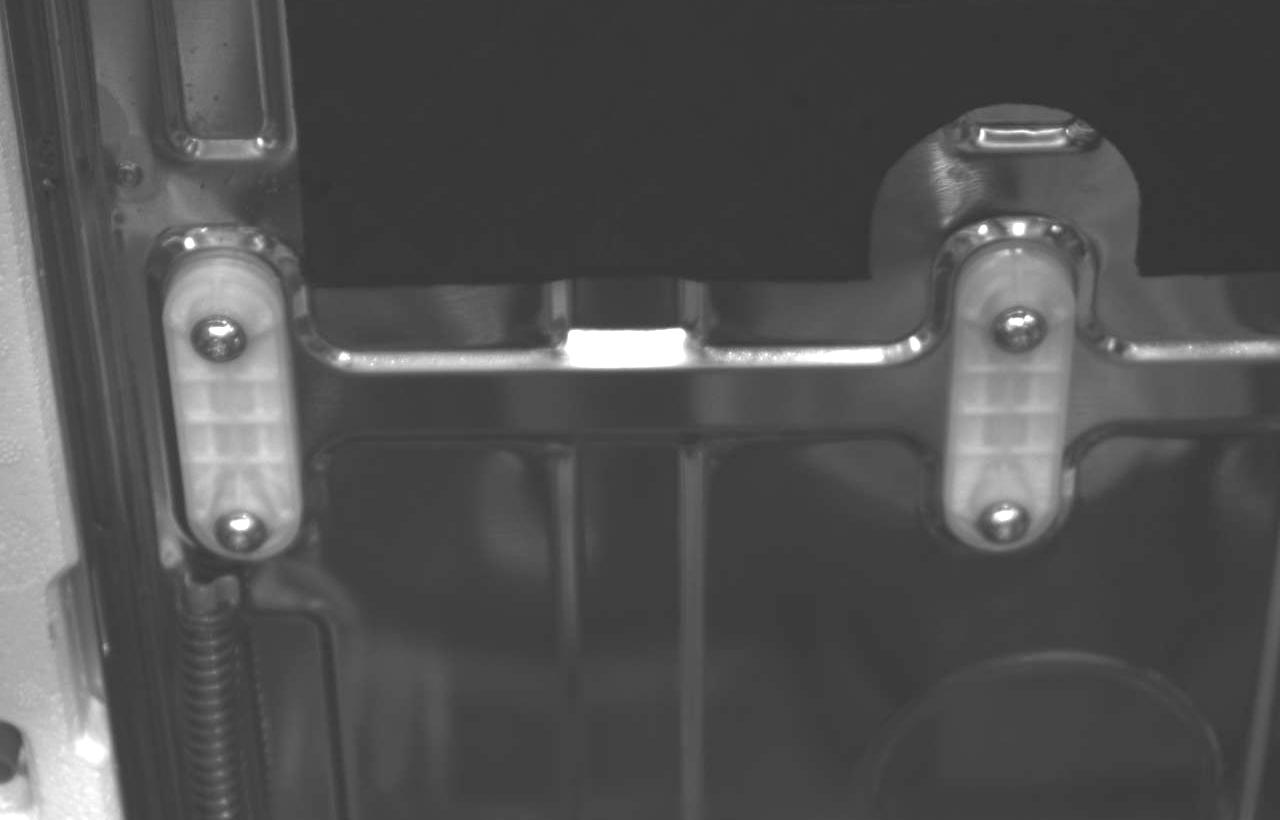vida-ok: (181, 304, 253, 371), (971, 485, 1037, 554), (987, 295, 1054, 362), (209, 501, 274, 559)
